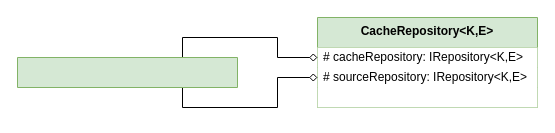
This 555x133 diagram has some shape labels left out. Each missing label, with the centre of its shape:
# keyExtractor: Function<E,K>: point 427,97
IRepository<K,E>: point 127,72
